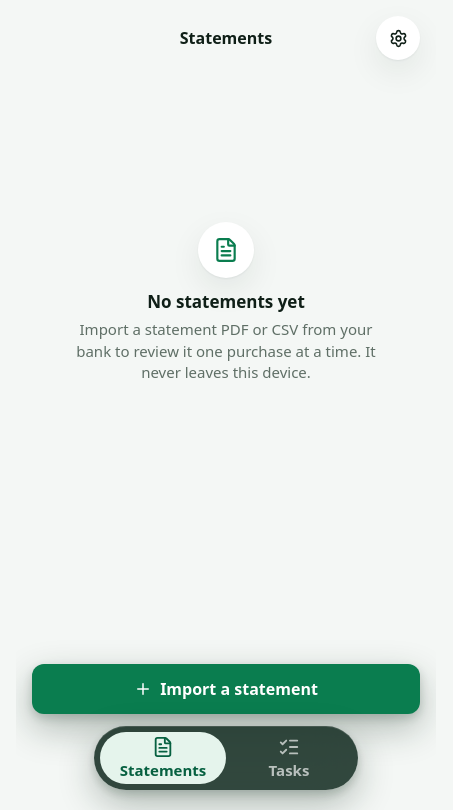
App › changes when tasks count as overdue, in Settings
The width and height of the screenshot is (453, 810).
Click the button named "Settings": coordinates (398, 38) [376,16,420,60]
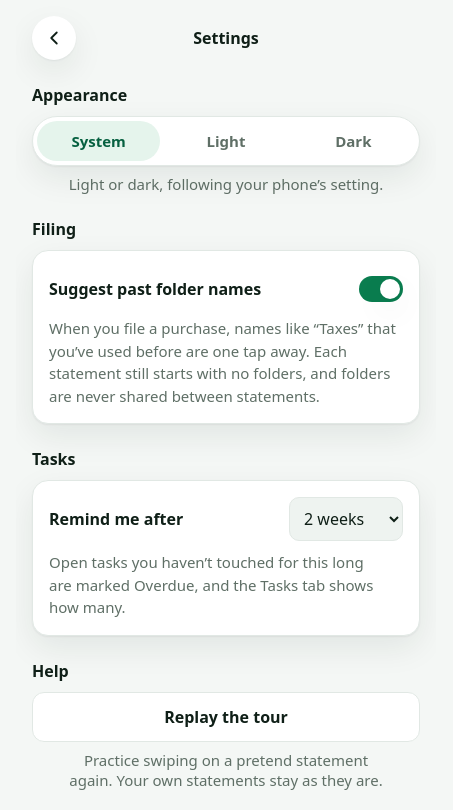
Expected: the dropdown labelled "Remind me after" shows "2 weeks"
Select "Off" in the dropdown labelled "Remind me after": coordinates (346, 519) [289,497,403,541]
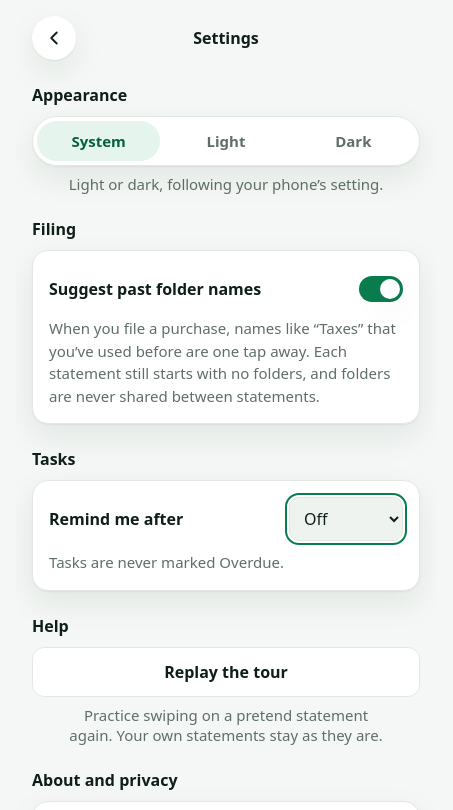
Expected: the text "Tasks are never marked Overdue." is shown, [49,552,284,572]
